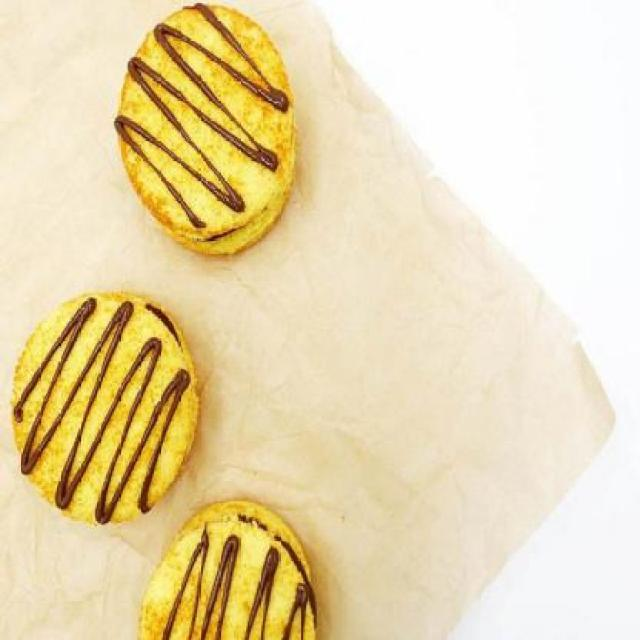Merendine packaged: (107, 5, 301, 258), (7, 286, 204, 526), (140, 496, 323, 638)
